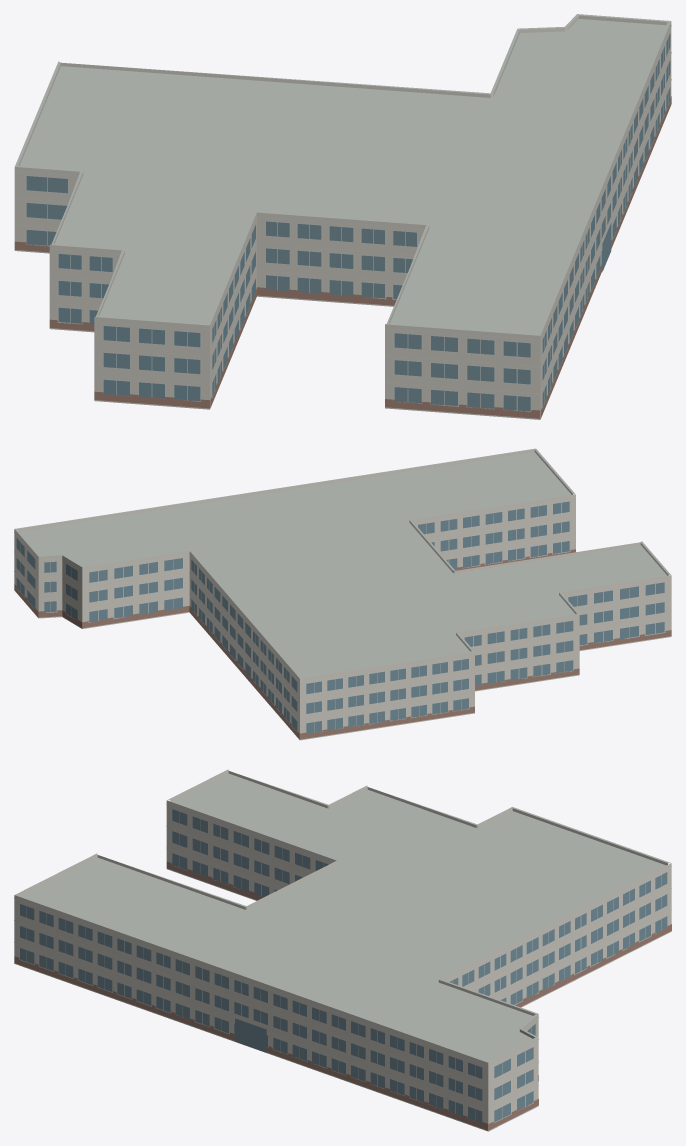
Rendered from public-a4fc0386-a42d-478e-b419-a58a0f682bc8.glb.
3 renders of one model, top to bottom at view 1: azimuth 30°, elevation 25°; view 2: azimuth 150°, elevation 25°; view 3: azimuth 270°, elevation 25°, orthographic. The views are drawn at different scales.
Visible parts, largest first — view 1: public-a4fc0386-a42d-478e-b419-a58a0f682bc8; view 2: public-a4fc0386-a42d-478e-b419-a58a0f682bc8; view 3: public-a4fc0386-a42d-478e-b419-a58a0f682bc8.
Boxes of the visible parts, x1,y1,x2,y2 form: public-a4fc0386-a42d-478e-b419-a58a0f682bc8: [14, 14, 671, 419]; public-a4fc0386-a42d-478e-b419-a58a0f682bc8: [14, 448, 671, 740]; public-a4fc0386-a42d-478e-b419-a58a0f682bc8: [14, 769, 671, 1131].
Size of the model in its own units: 83.9 by 9.15 by 79.34.
